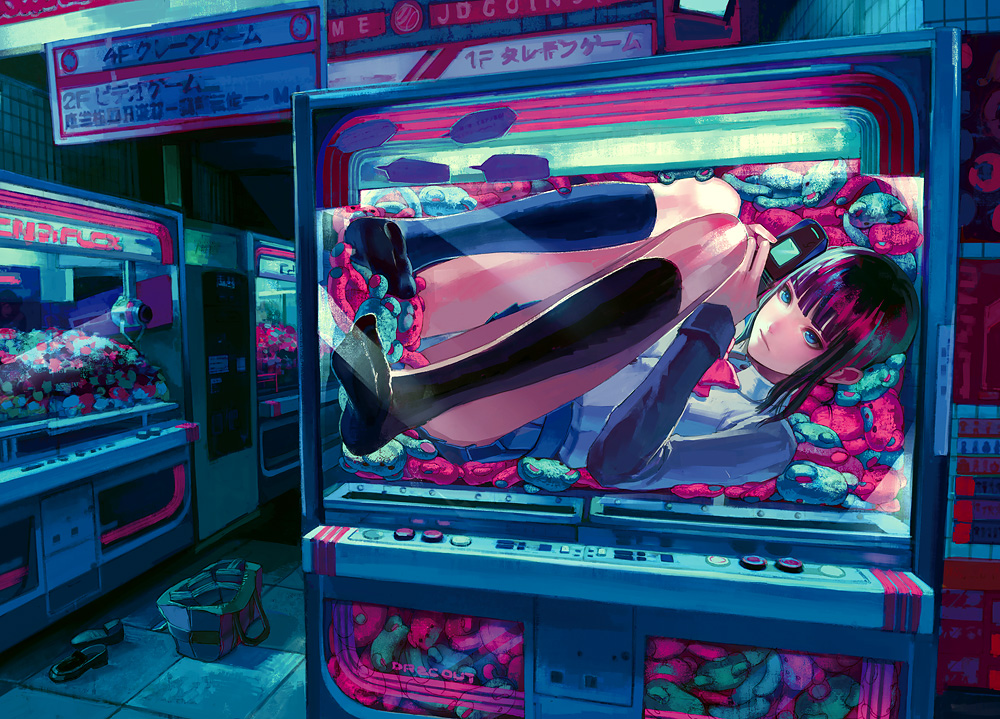anime face: (743, 246, 919, 383)
